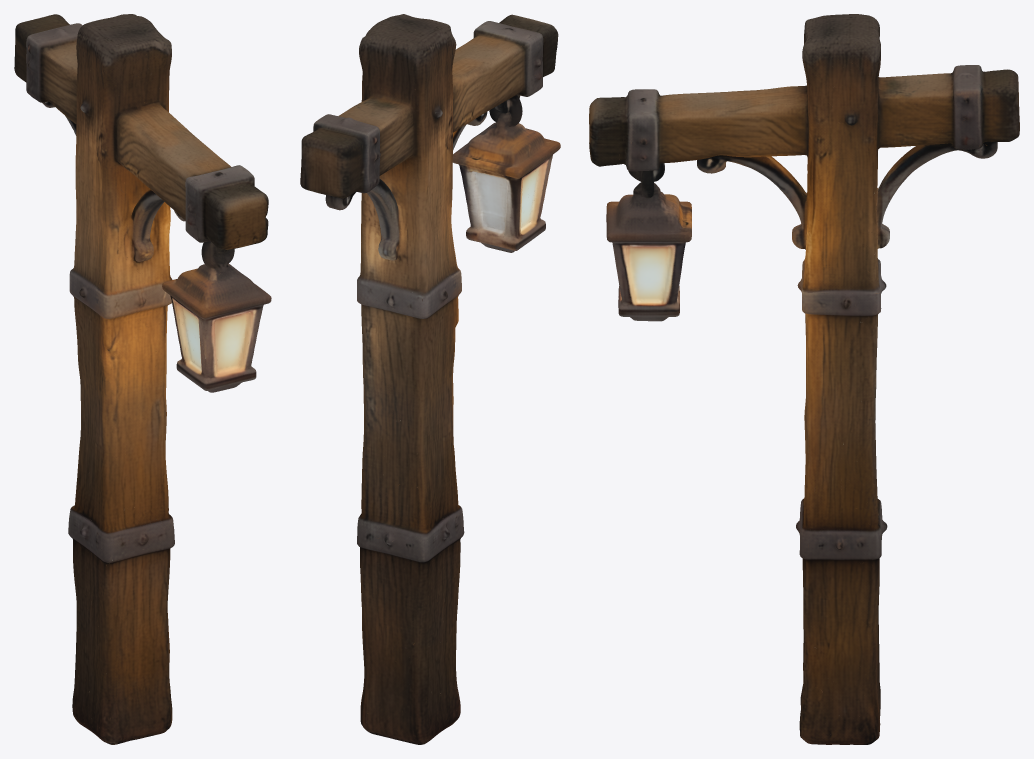
The model's file is fantasy-x__x-lantern__echad-ce8f0224.glb.
3 views of the same model, side by side, from view 1: azimuth 30°, elevation 25°; view 2: azimuth 150°, elevation 25°; view 3: azimuth 270°, elevation 25° (orthographic).
Parts seen in each view (by area): view 1: world_0; view 2: world_0; view 3: world_0.
Part boxes in pixels (<box>): world_0: <box>14,14,271,744</box>; world_0: <box>300,14,560,744</box>; world_0: <box>589,14,1019,744</box>.
Bounding box in the file's own units: 0.1216 × 1 × 0.5525.
Materials: 1 (1 with a texture image).
